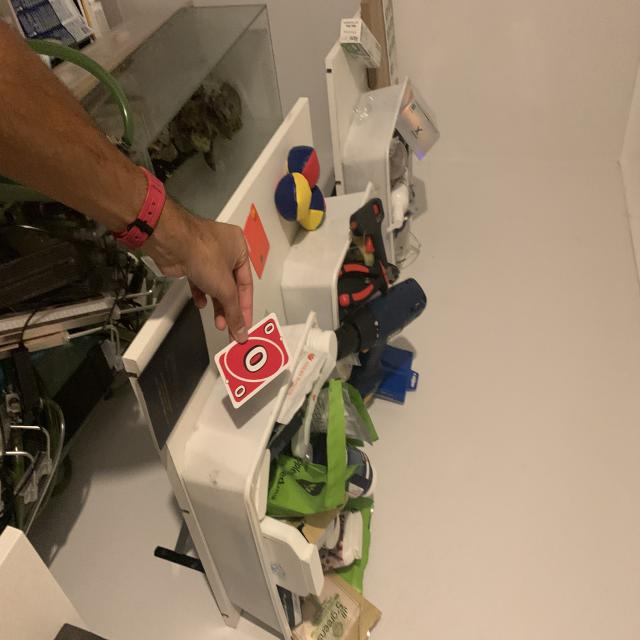lred-0: (261, 320, 278, 337)
